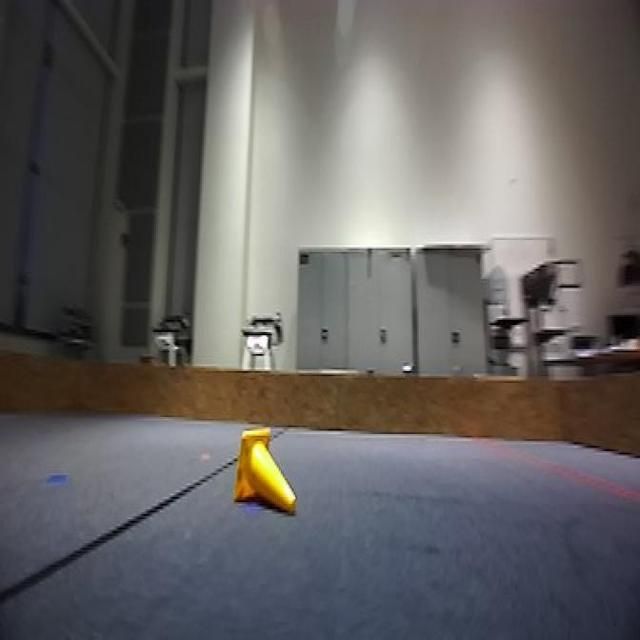frc_cone: (228, 429, 298, 517)
